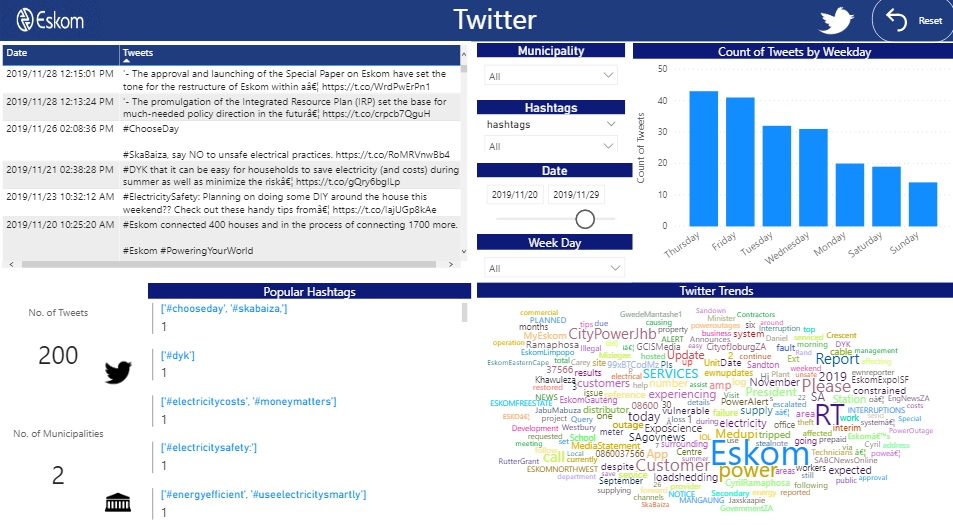

The page's visual inventory and layout, read from the dashboard file:
{"tool":"powerbi","page":{"name":"Twitter","canvas":[1280,720],"ordinal":2},"visuals":[{"type":"textbox","box":[0,0,1280,61.7],"z":0},{"type":"image","box":[0,2.7,140.7,59.5],"z":1000},{"type":"WordCloud1447959067750","title":"Twitter Trends","fields":{"Category":["Tweets_municipalities_hashtags.Tweets"]},"box":[640,384,640,336],"z":2000},{"type":"slicer","title":"Week Day","fields":{"Values":["Tweets_municipalities_hashtags.Weekday"]},"box":[640,319.3,207.8,64.7],"z":3000},{"type":"clusteredColumnChart","fields":{"Y":["Tweets_municipalities_hashtags.Tweets"],"Category":["Tweets_municipalities_hashtags.Weekday"]},"box":[848,64,432,320],"z":4000},{"type":"multiRowCard","title":"Popular Hashtags","fields":{"Values":["Tweets_municipalities_hashtags.hashtags","Tweets_municipalities_hashtags.hashtags"]},"box":[200.3,384.3,431.6,335.6],"z":5000},{"type":"card","title":"No. of Tweets","fields":{"Values":["Tweets_municipalities_hashtags.Tweets Hierarchy.Tweets"]},"box":[0,415.4,161,112.3],"z":6000},{"type":"card","title":"No. of Municipalities","fields":{"Values":["Tweets_municipalities_hashtags.municipality"]},"box":[0,576.4,161,111],"z":7000},{"type":"tableEx","fields":{"Values":["Tweets_municipalities_hashtags.Date","Tweets_municipalities_hashtags.Tweets"]},"box":[0,61.9,631.7,308.3],"z":8000},{"type":"image","box":[1088,0,64,64],"z":9000},{"type":"actionButton","box":[1168,0,112,64],"z":10000},{"type":"textbox","box":[592,0,144,64],"z":11000},{"type":"image","box":[120.4,480.3,79.8,47.4],"z":12000},{"type":"image","box":[120.4,645.4,79.8,63.6],"z":13000},{"type":"slicer","title":"Date","fields":{"Values":["date.date"]},"box":[640,224.3,207.8,89.5],"z":14000},{"type":"slicer","title":"Municipality","fields":{"Values":["Tweets_municipalities_hashtags.municipality"]},"box":[640,64.7,198.2,75.7],"z":15000},{"type":"slicer","title":"Hashtags","fields":{"Values":["Tweets_municipalities_hashtags.hashtags"]},"box":[640,140.4,198.2,68.8],"z":16000}]}

Visuals, with their boxes in screenshot pixels (x1, y1, x2, y2), scaled from the page's 1280x720 canvas onto the 953x525 screenshot:
textbox: (left=0, top=0, right=952, bottom=45)
image: (left=0, top=2, right=105, bottom=45)
"Twitter Trends" WordCloud1447959067750: (left=476, top=280, right=952, bottom=524)
"Week Day" slicer: (left=476, top=233, right=631, bottom=280)
clusteredColumnChart - Tweets_municipalities_hashtags.Tweets x Tweets_municipalities_hashtags.Weekday: (left=631, top=47, right=952, bottom=280)
"Popular Hashtags" multiRowCard: (left=149, top=280, right=470, bottom=524)
"No. of Tweets" card: (left=0, top=303, right=120, bottom=385)
"No. of Municipalities" card: (left=0, top=420, right=120, bottom=501)
tableEx - Tweets_municipalities_hashtags.Date x Tweets_municipalities_hashtags.Tweets: (left=0, top=45, right=470, bottom=270)
image: (left=810, top=0, right=858, bottom=47)
actionButton: (left=870, top=0, right=952, bottom=47)
textbox: (left=441, top=0, right=548, bottom=47)
image: (left=90, top=350, right=149, bottom=385)
image: (left=90, top=471, right=149, bottom=517)
"Date" slicer: (left=476, top=164, right=631, bottom=229)
"Municipality" slicer: (left=476, top=47, right=624, bottom=102)
"Hashtags" slicer: (left=476, top=102, right=624, bottom=153)
